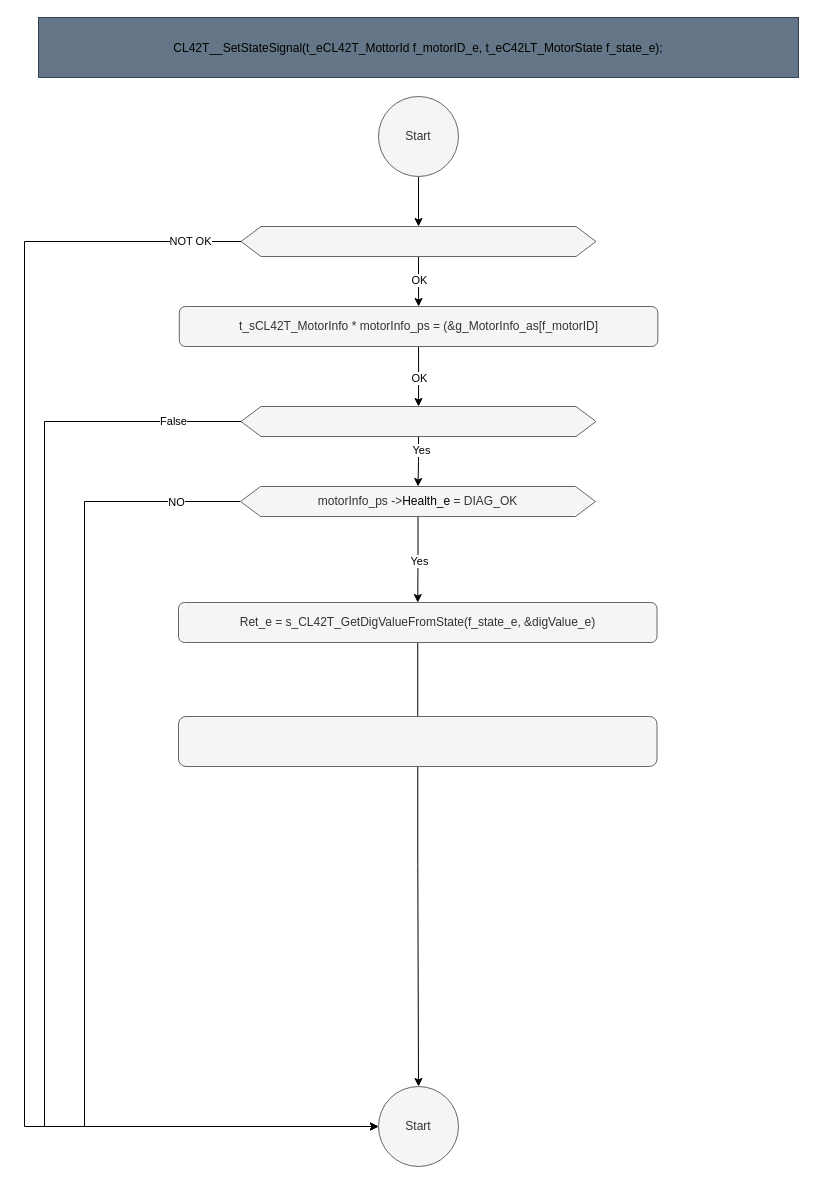
Some shapes in this 816 by 1184 pixel diagram are drawn without their labels. The shapes that lost their labels are listed below. From the top down, each one's box as (x1, y1, x2, y2) in pixels, then its label:
(240, 226, 596, 256): verif argument
(240, 406, 596, 436): motorInfo_ps ->isConfigured_b == True ??
(178, 716, 657, 766): motorInfo_ps->SignalIngo_as[CL42T_SIGTYPE_PULSE].value_u32 = digValue_e
